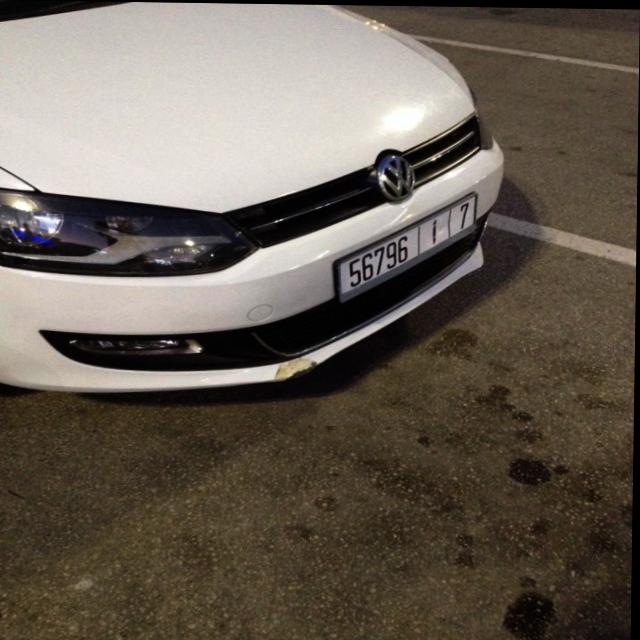License-Plate: (337, 193, 478, 300)
